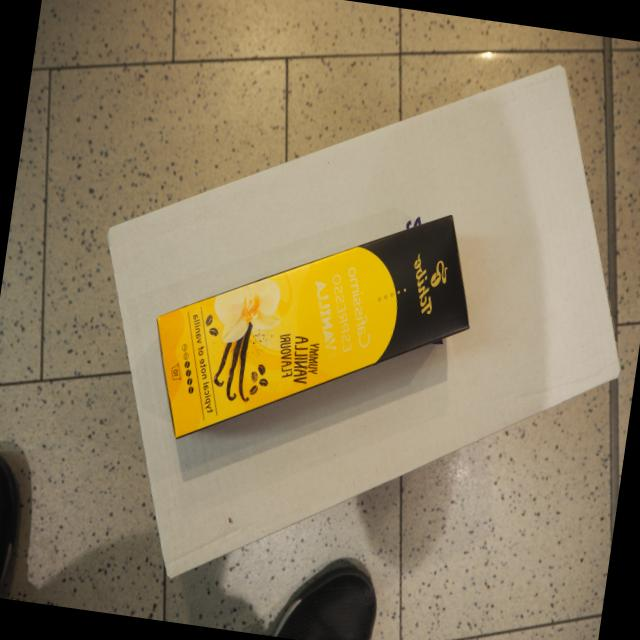Simo Es Vanilla: (155, 211, 475, 444)
